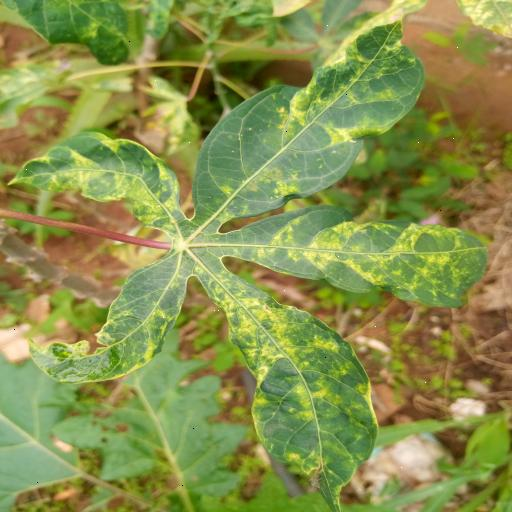Cassava_Mosaic: (10, 0, 483, 500)
